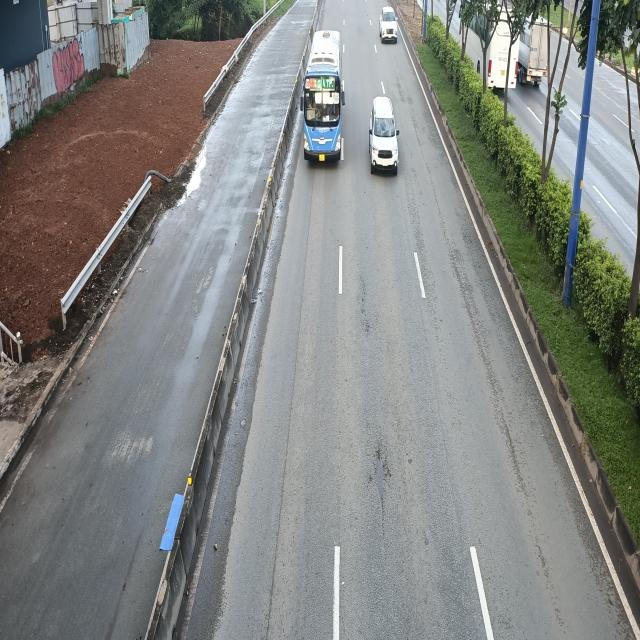car: (366, 97, 398, 175), (381, 5, 398, 43)
coach: (297, 28, 343, 162)
